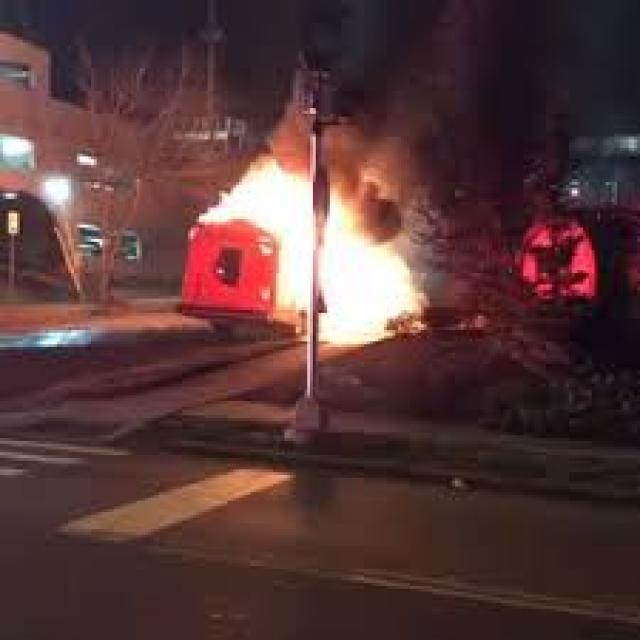Fire: (192, 144, 438, 378)
Smoke: (304, 0, 628, 156)
